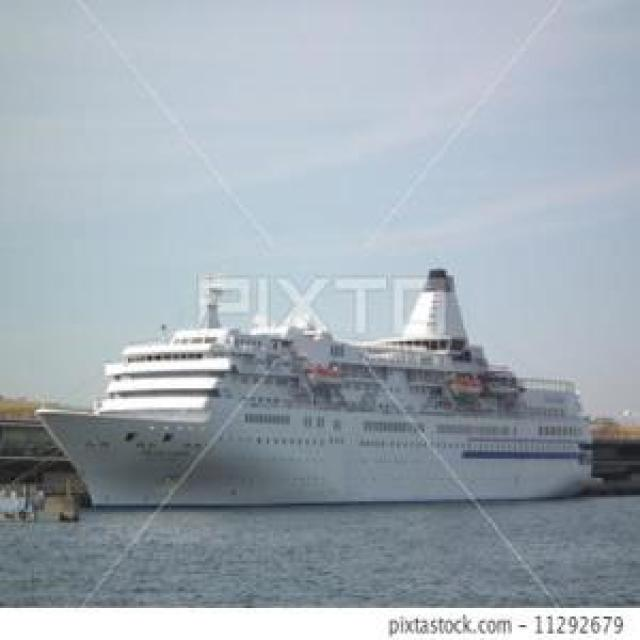passenger ship: (39, 274, 590, 503)
